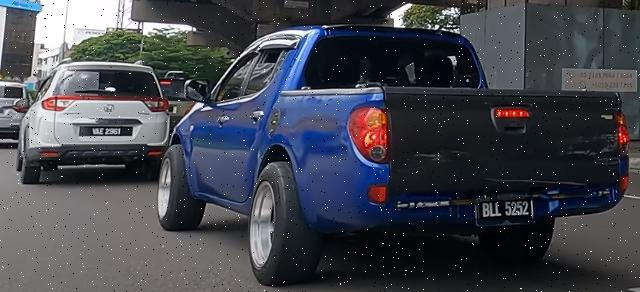License_Plate: (474, 196, 536, 228), (80, 128, 135, 138)
car: (157, 25, 631, 288), (16, 61, 173, 186)
